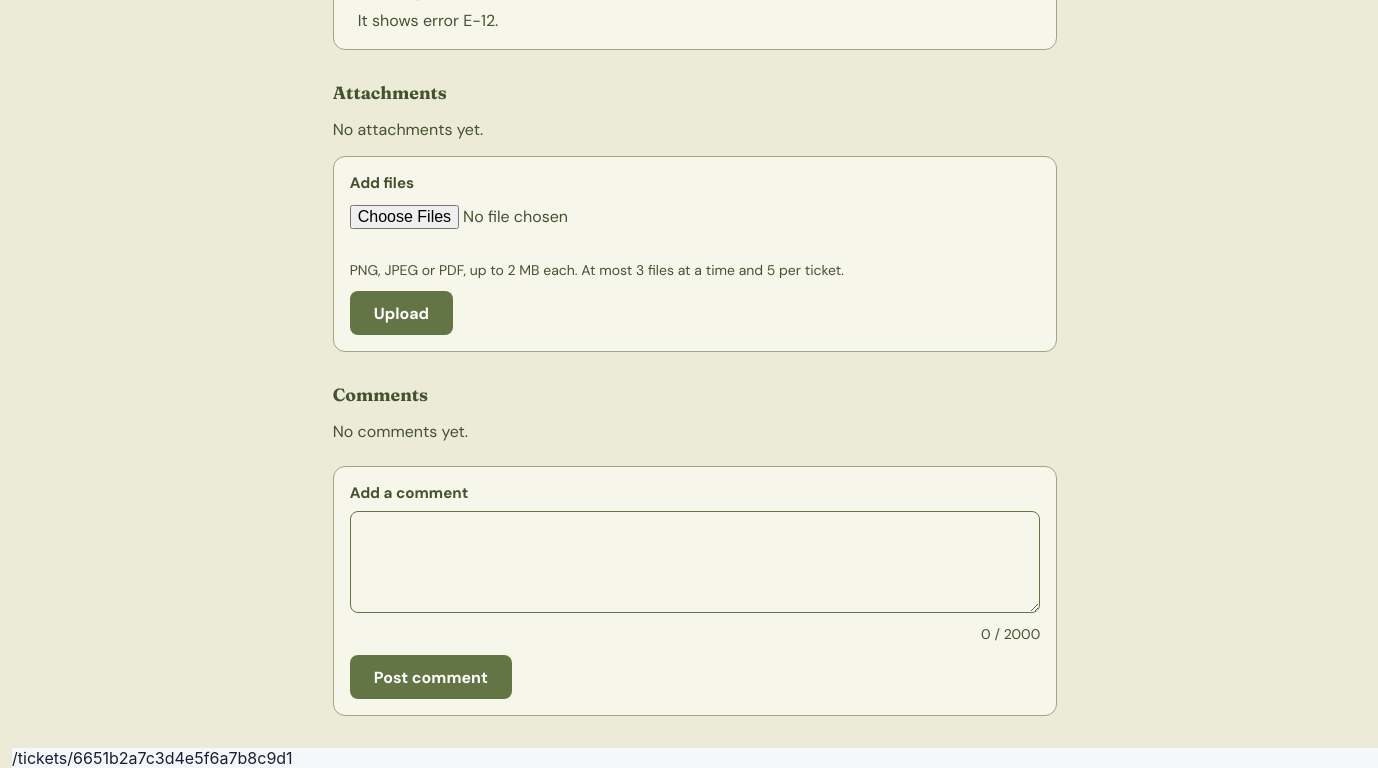
Test case: comment form › shows the server error and keeps the text
This screenshot has width=1378, height=768.
(page scrolled)
Type "Hello?" into the text box labelled "Add a comment" at (695, 562), box [350,511,1040,613]
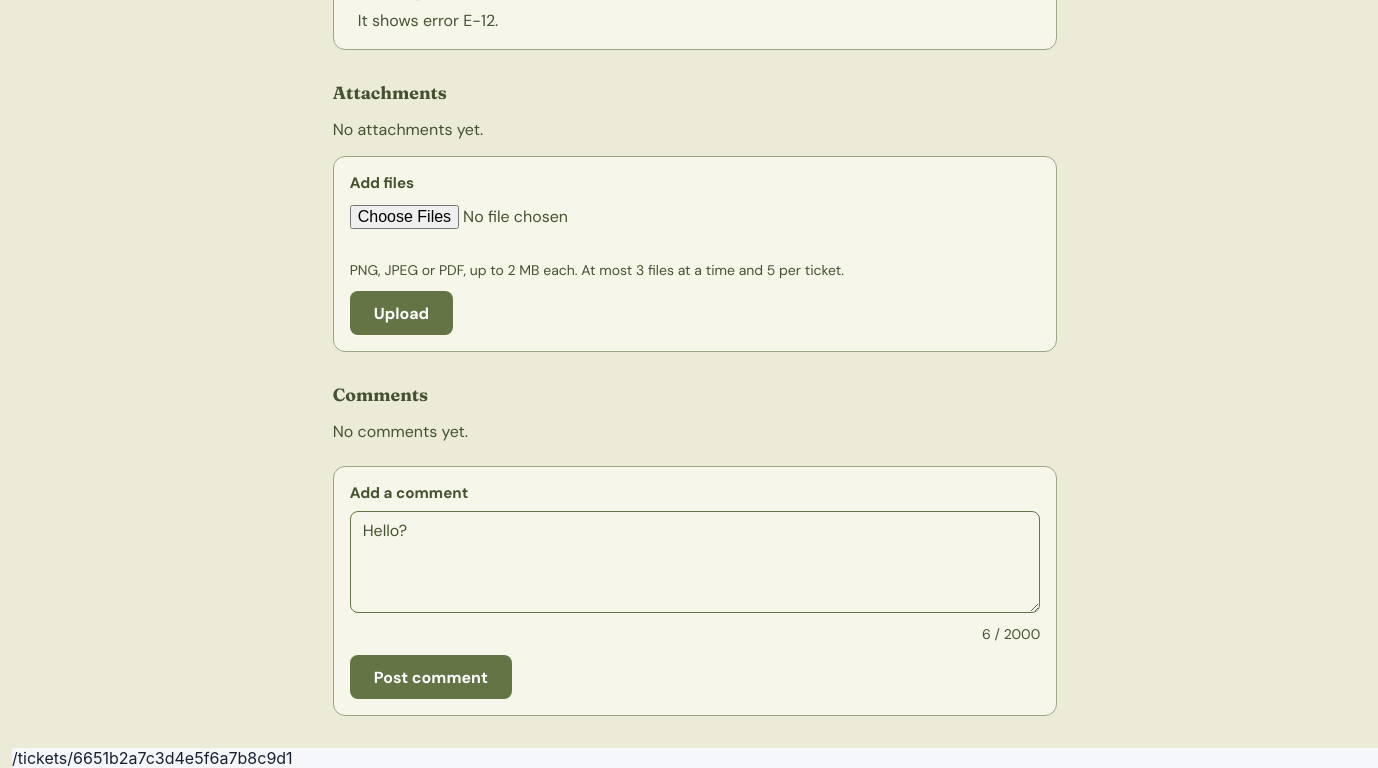
Click the button "Post comment" at (431, 677), box [350,655,512,699]
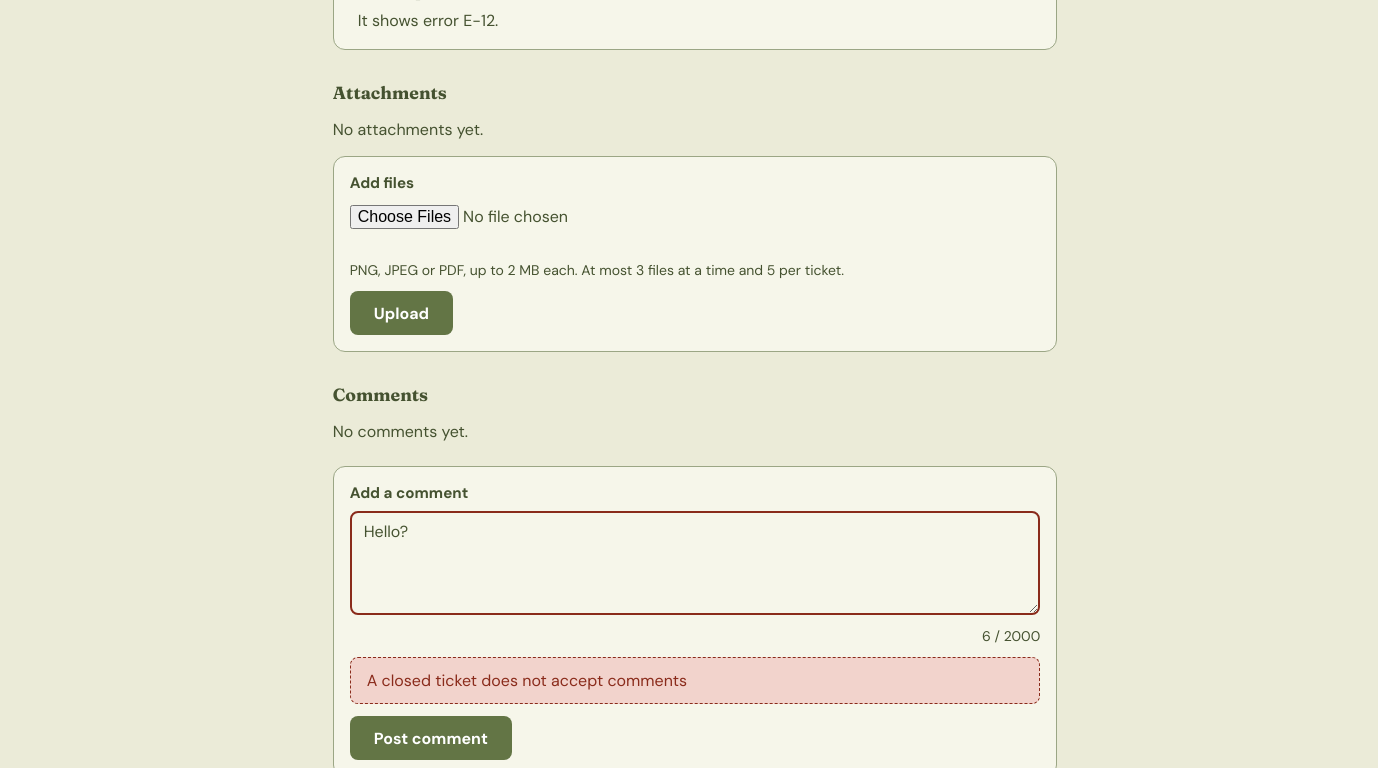
Result: the message reads "A closed ticket does not accept comments" at [367,670,687,691]
